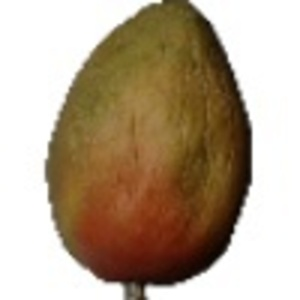mamão: (35, 4, 257, 292)
